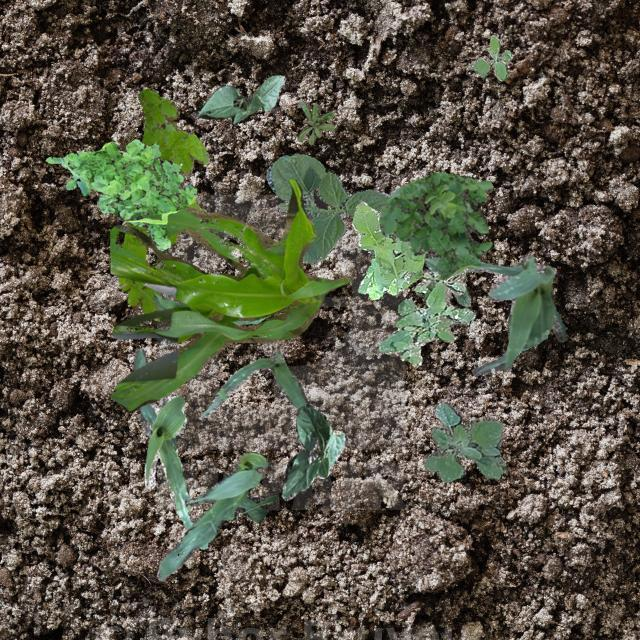crop: (109, 178, 348, 412), (156, 450, 276, 580), (133, 348, 207, 548), (266, 152, 388, 264), (466, 253, 564, 374), (200, 348, 308, 416), (280, 404, 348, 499), (152, 292, 266, 344), (196, 74, 284, 122), (422, 253, 470, 306)
weed: (118, 88, 208, 320), (44, 138, 196, 250), (378, 170, 492, 278), (378, 266, 474, 366), (352, 200, 424, 298), (422, 401, 504, 482), (466, 34, 509, 80), (296, 100, 334, 144)
